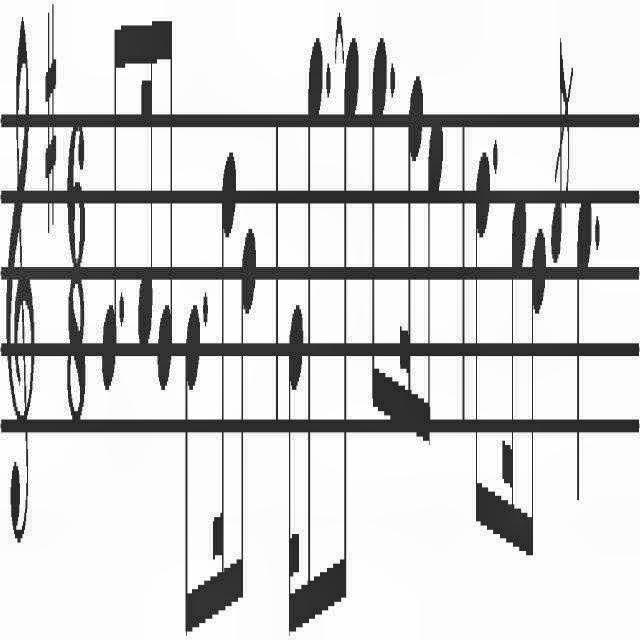Bass-clef: (4, 15, 36, 551)
Diez: (44, 0, 56, 236)
Eighth-note: (305, 34, 323, 640), (342, 36, 360, 606), (154, 2, 176, 402), (474, 152, 494, 540), (100, 16, 120, 392), (528, 210, 548, 562), (183, 292, 203, 640), (371, 38, 389, 424), (240, 226, 256, 624), (424, 114, 442, 450)
Quarter-note: (575, 190, 593, 510)
Sixteenth-note: (212, 151, 236, 617), (502, 188, 528, 560), (400, 57, 424, 456), (138, 8, 154, 354), (288, 294, 304, 640)
